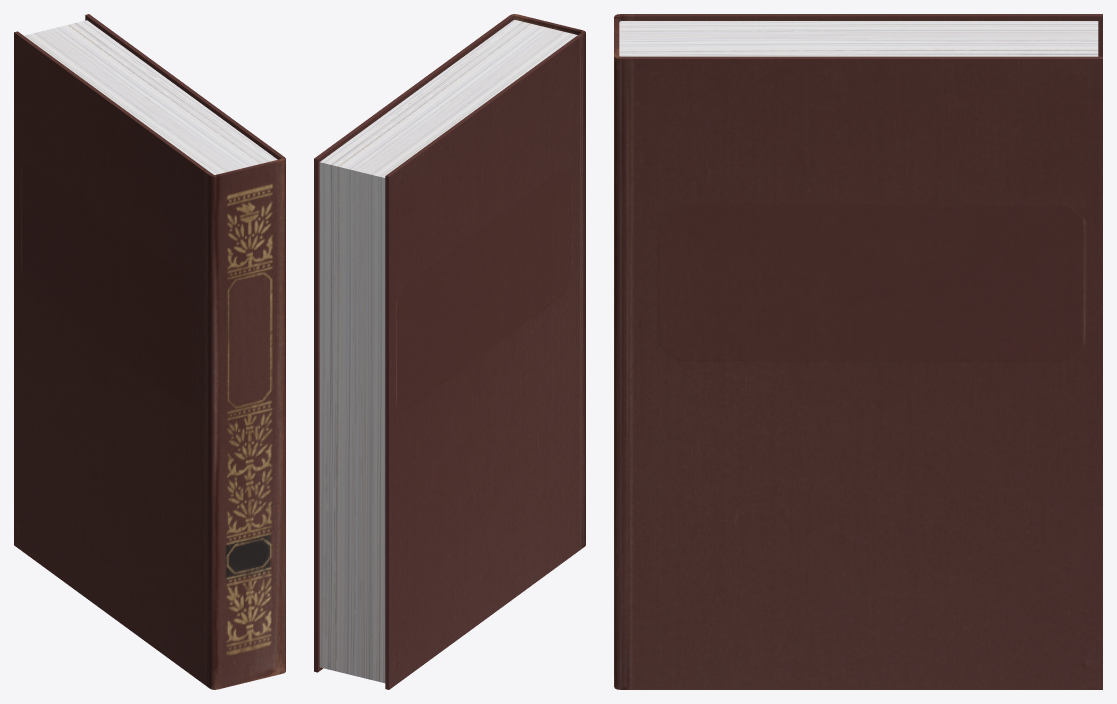
File: RetroBooks01_4_1x.FBX
The picture shows the model from 3 angles, left to right: view 1: azimuth 30°, elevation 25°; view 2: azimuth 150°, elevation 25°; view 3: azimuth 270°, elevation 25°; orthographic projection. The views are drawn at different scales.
Visible parts, largest first — view 1: RetroBooks01_4_1x; view 2: RetroBooks01_4_1x; view 3: RetroBooks01_4_1x.
Part boxes in pixels (x1,y1,x2,y2): RetroBooks01_4_1x: [14, 14, 285, 689]; RetroBooks01_4_1x: [314, 14, 585, 689]; RetroBooks01_4_1x: [614, 14, 1102, 689].
Bounding box in the file's own units: 0.3459 × 2.26 × 1.59.
